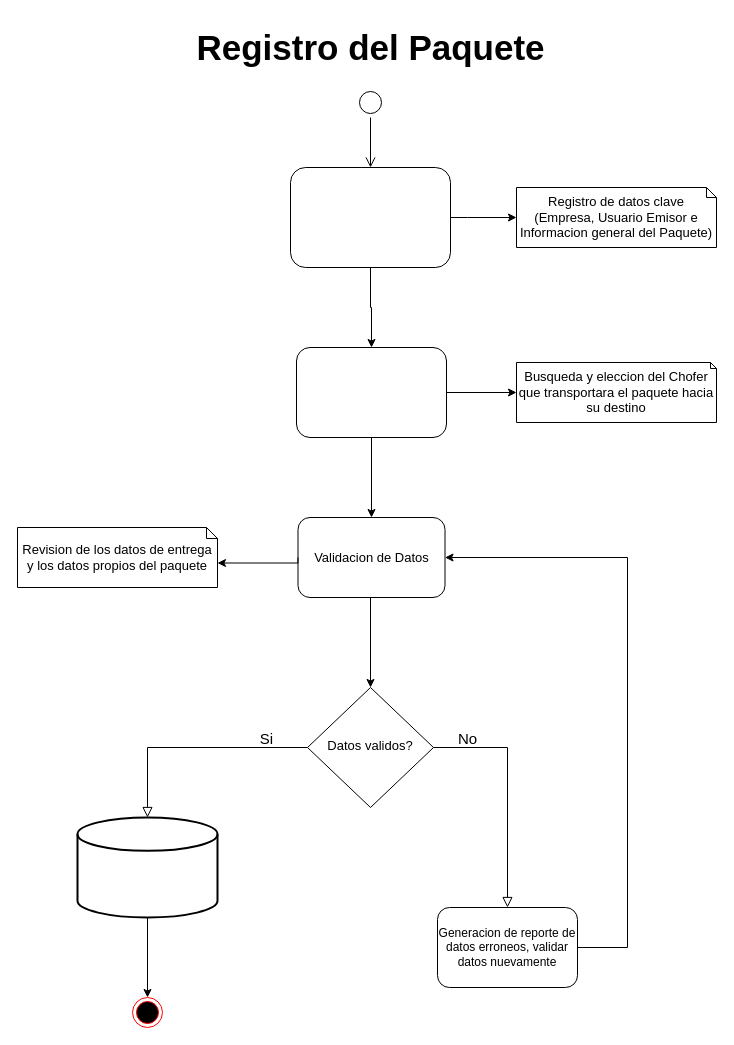
This 734x1045 diagram has some shape labels left out. Here are the shapes that lost their labels. From the top down, the centre of each, then its label:
At pixel 370 217: "Registro de Informacion".
At pixel 371 392: "Asignacion de Piloto".
At pixel 147 867: "Guardar informacion acerca de la entrega y actualizar estado a Entregado".
